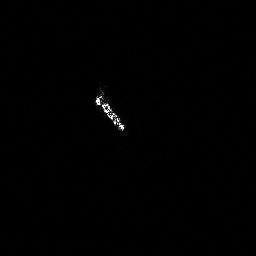ship: (91, 91, 127, 133)
